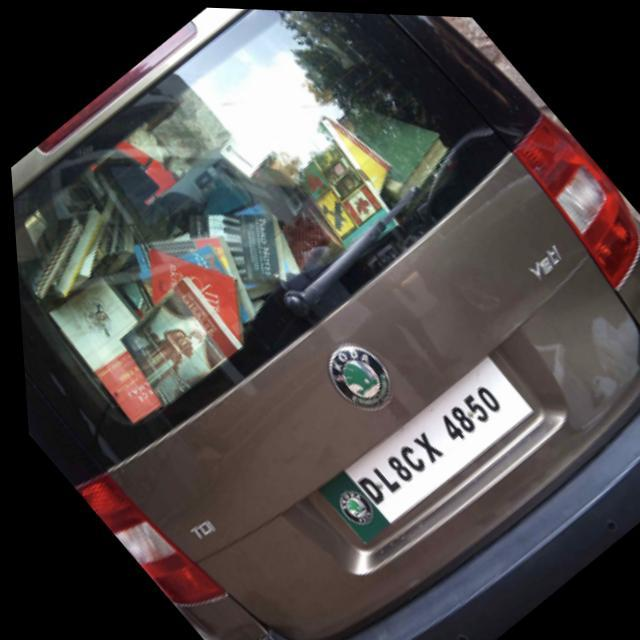license_plate: (302, 345, 532, 548)
